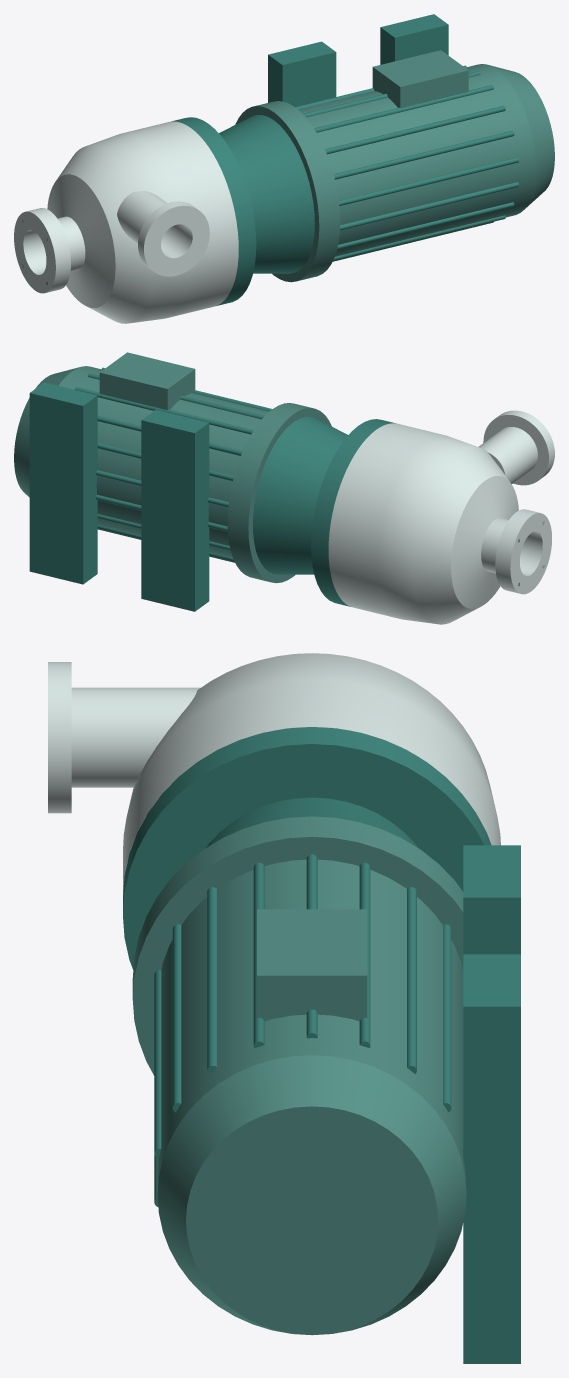
3 renders of one model, top to bottom at view 1: azimuth 30°, elevation 25°; view 2: azimuth 150°, elevation 25°; view 3: azimuth 270°, elevation 25°, orthographic. The views are drawn at different scales.
Visible parts, largest first — view 1: 泵体_圆弧壳与轴向进液口, 电机_带筋机壳, 连接座_短连接段, 支脚_电机底脚, 电机_连接法兰, 电机_接线盒, 接口_朝上出液法兰, 连接座_泵壳连接环, 电机_圆弧尾罩, 接口_偏置竖向出液管, 电机_散热筋04, 电机_散热筋05 (+6 smaller); view 2: 泵体_圆弧壳与轴向进液口, 支脚_电机底脚, 电机_带筋机壳, 连接座_短连接段, 电机_连接法兰, 电机_接线盒, 连接座_泵壳连接环, 接口_朝上出液法兰, 接口_偏置竖向出液管, 电机_圆弧尾罩, 电机_散热筋18, 电机_散热筋17 (+4 smaller); view 3: 电机_圆弧尾罩, 电机_带筋机壳, 支脚_电机底脚, 连接座_泵壳连接环, 泵体_圆弧壳与轴向进液口, 电机_连接法兰, 电机_接线盒, 接口_偏置竖向出液管, 接口_朝上出液法兰, 连接座_短连接段, 电机_散热筋04, 电机_散热筋03 (+6 smaller).
Boxes of the visible parts, left/top/right/bottom form: 泵体_圆弧壳与轴向进液口: left=14, top=121, right=238, bottom=323; 电机_带筋机壳: left=298, top=64, right=535, bottom=256; 连接座_短连接段: left=219, top=114, right=314, bottom=273; 支脚_电机底脚: left=268, top=14, right=448, bottom=106; 电机_连接法兰: left=235, top=101, right=340, bottom=282; 电机_接线盒: left=372, top=50, right=468, bottom=108; 接口_朝上出液法兰: left=138, top=201, right=209, bottom=276; 连接座_泵壳连接环: left=171, top=117, right=256, bottom=305; 电机_圆弧尾罩: left=489, top=65, right=554, bottom=208; 接口_偏置竖向出液管: left=117, top=191, right=186, bottom=253; 电机_散热筋04: left=333, top=131, right=514, bottom=179; 电机_散热筋05: left=339, top=157, right=518, bottom=205; 泵体_圆弧壳与轴向进液口: left=328, top=423, right=551, bottom=624; 支脚_电机底脚: left=29, top=382, right=209, bottom=611; 电机_带筋机壳: left=58, top=366, right=268, bottom=557; 连接座_短连接段: left=253, top=416, right=347, bottom=574; 电机_连接法兰: left=227, top=403, right=331, bottom=583; 电机_接线盒: left=99, top=352, right=195, bottom=410; 连接座_泵壳连接环: left=311, top=419, right=396, bottom=606; 接口_朝上出液法兰: left=483, top=410, right=554, bottom=485; 接口_偏置竖向出液管: left=478, top=427, right=537, bottom=483; 电机_圆弧尾罩: left=14, top=367, right=79, bottom=497; 电机_散热筋18: left=74, top=387, right=253, bottom=434; 电机_散热筋17: left=97, top=415, right=242, bottom=455; 电机_圆弧尾罩: left=157, top=1055, right=466, bottom=1335; 电机_带筋机壳: left=157, top=859, right=466, bottom=1193; 支脚_电机底脚: left=463, top=845, right=520, bottom=1363; 连接座_泵壳连接环: left=123, top=727, right=491, bottom=969; 泵体_圆弧壳与轴向进液口: left=123, top=653, right=500, bottom=894; 电机_连接法兰: left=132, top=816, right=463, bottom=1075; 电机_接线盒: left=257, top=909, right=367, bottom=1021; 接口_偏置竖向出液管: left=71, top=687, right=200, bottom=787; 接口_朝上出液法兰: left=48, top=662, right=71, bottom=813; 连接座_短连接段: left=206, top=797, right=418, bottom=848; 电机_散热筋04: left=172, top=924, right=181, bottom=1112; 电机_散热筋03: left=207, top=887, right=216, bottom=1073.
Size of the model in its own units: 0.74 by 0.26 by 0.312.
